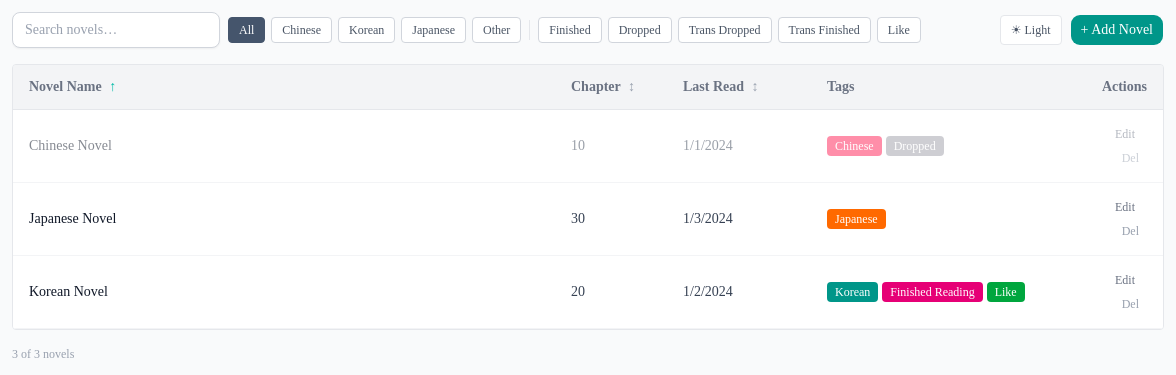
Clear all filters › shows Clear button when origin filter is active
What coordinates should you click on to do the following:
click the button "Korean"
I would click on:
 (367, 30)
Its box is [338,17,395,43].
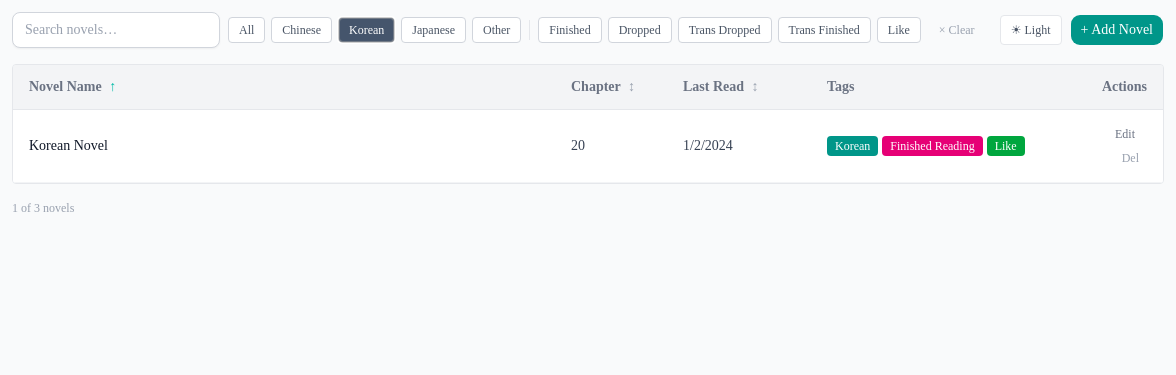
Check: the button "× Clear" is shown, box [929,18,985,42]
